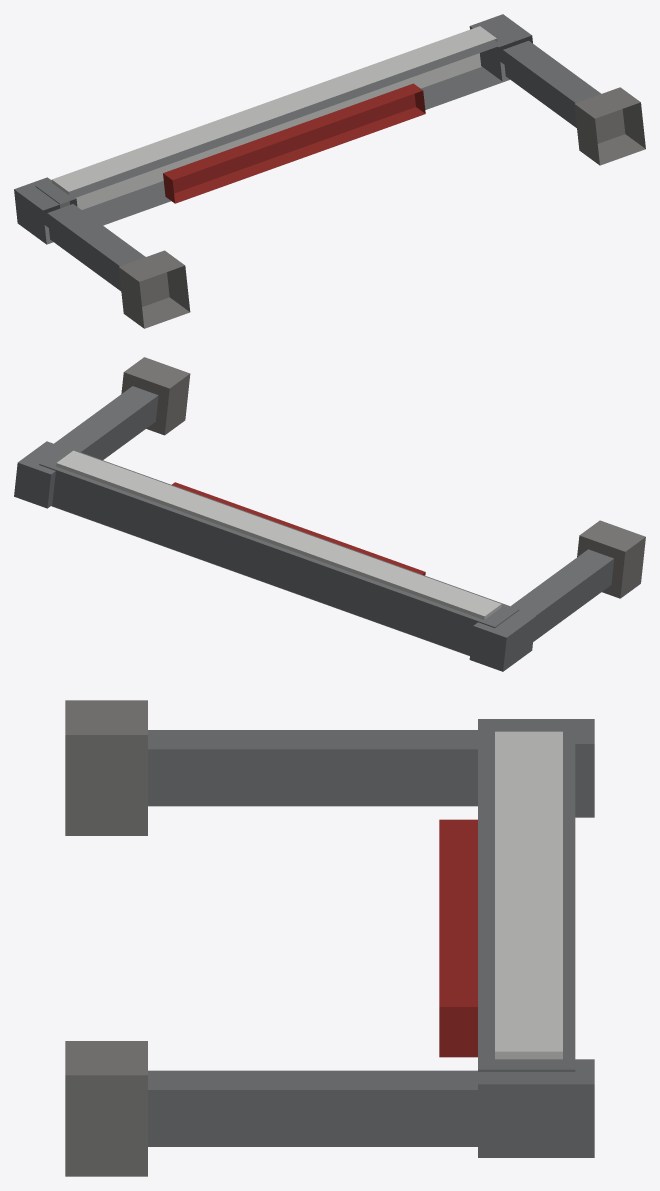
The model's file is Trk_Gantry.fbx.
3 views of the same model, one above another, from view 1: azimuth 30°, elevation 25°; view 2: azimuth 150°, elevation 25°; view 3: azimuth 270°, elevation 25° (orthographic). The views are drawn at different scales.
Parts seen in each view (by area): view 1: Trk_Gantry; view 2: Trk_Gantry; view 3: Trk_Gantry.
Boxes of the visible parts, x1,y1,x2,y2 form: Trk_Gantry: (14, 14, 645, 328); Trk_Gantry: (14, 357, 645, 671); Trk_Gantry: (65, 700, 594, 1176).
Bounding box in the file's own units: 2410 × 1090 × 479.
